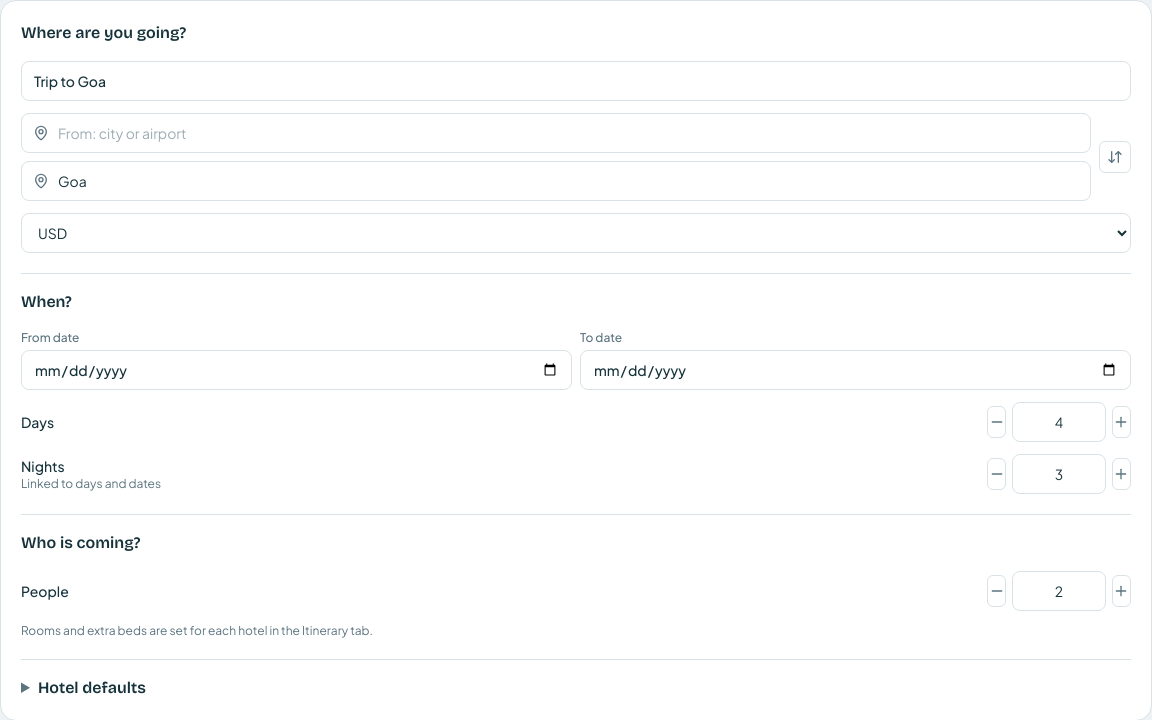
Test case: LocationCombobox and dates in TripForm › searches places and picks one with the mouse
This screenshot has width=1152, height=720.
Type "del" into the dropdown named "Origin" at (556, 133), box [21,113,1091,153]
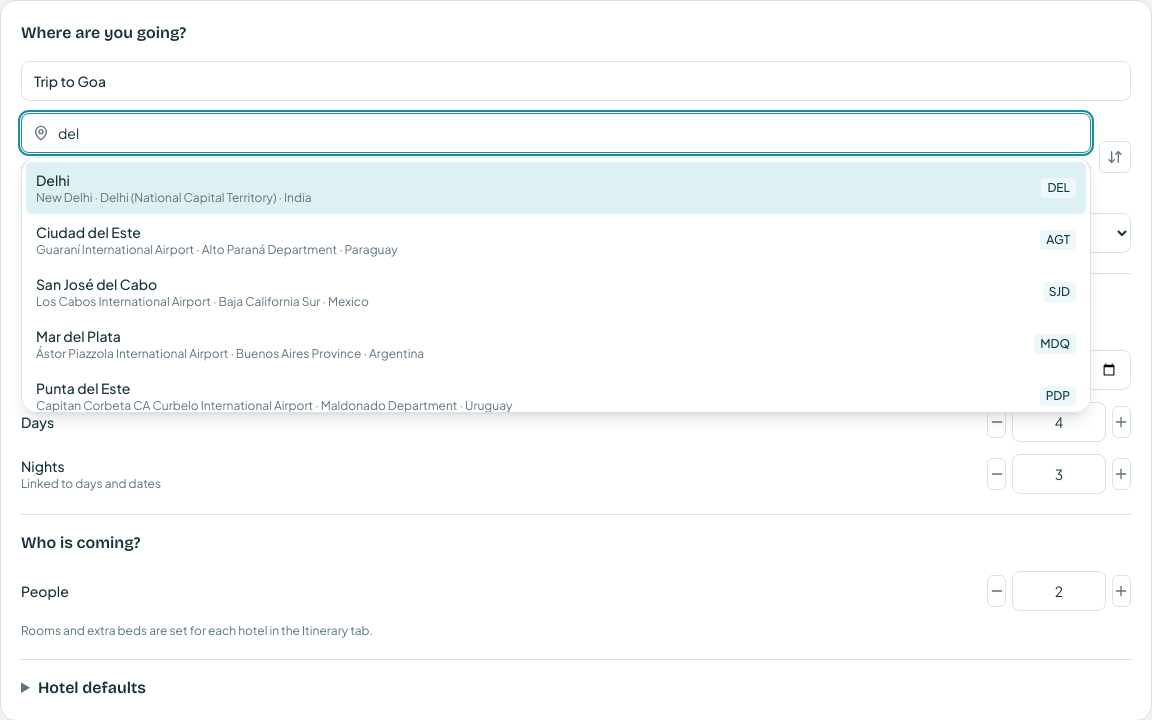
Expected: the list named "Origin suggestions" shows "Delhi", [36,171,70,189]
Expected: the list named "Origin suggestions" shows "Del", [1047,180,1070,195]
Press the mouse on the option "Delhi" at (53, 180), box [26,162,1086,214]
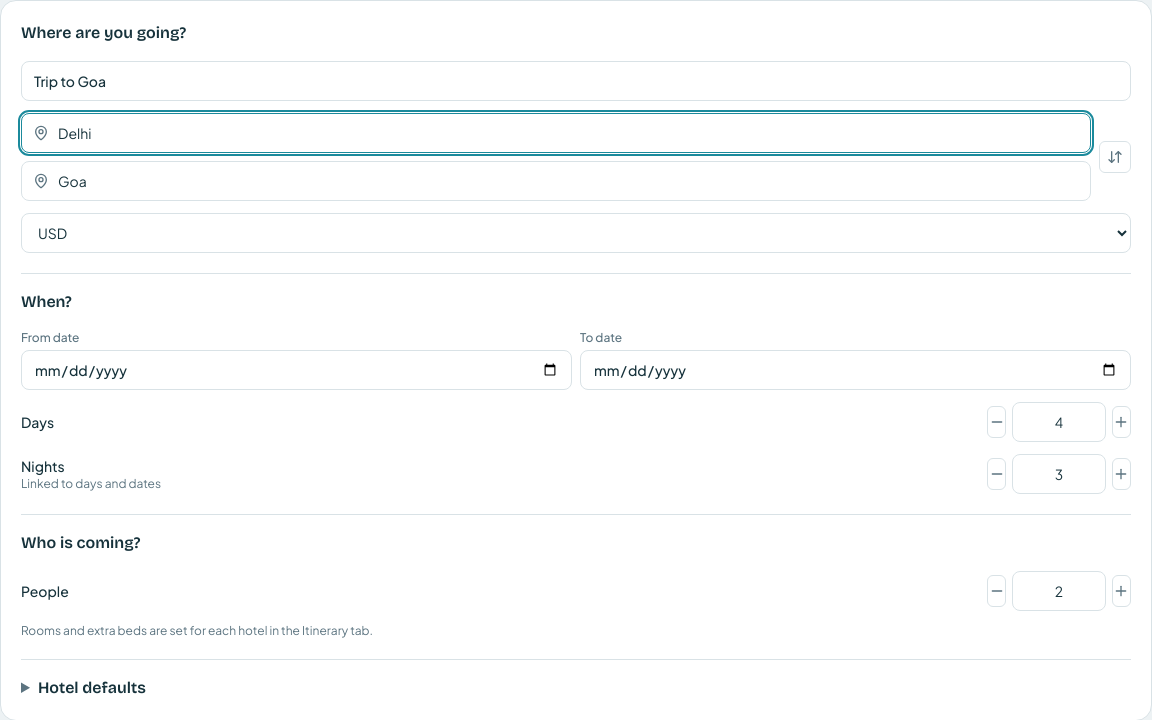
Expected: the list is gone
